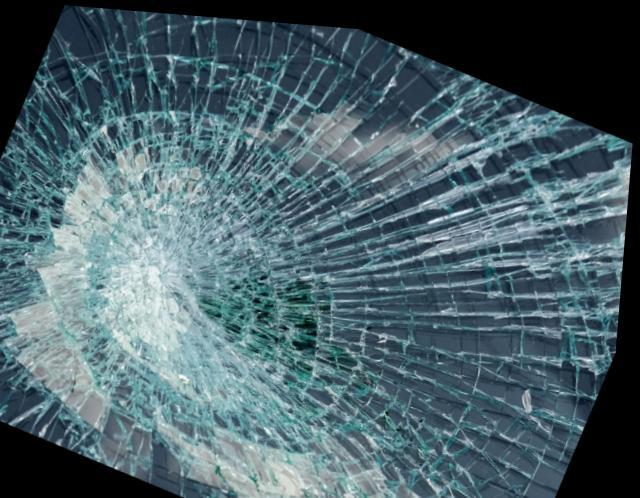glass shatter: (0, 4, 634, 498)
